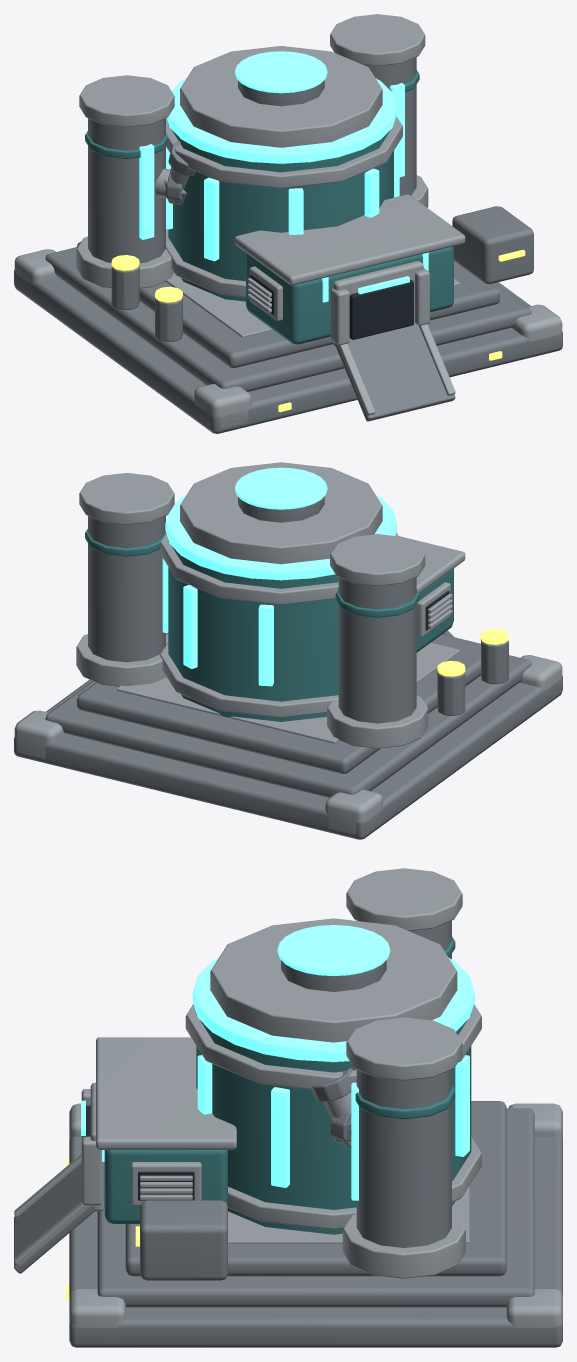
File: meridian-power-plant.glb
3 renders of one model, top to bottom at view 1: azimuth 30°, elevation 25°; view 2: azimuth 150°, elevation 25°; view 3: azimuth 270°, elevation 25°, orthographic. The views are drawn at different scales.
Visible parts, largest first — view 1: PowerPlantBodyMesh; view 2: PowerPlantBodyMesh; view 3: PowerPlantBodyMesh.
Part boxes in pixels (<box>): PowerPlantBodyMesh: <box>14,14,562,433</box>; PowerPlantBodyMesh: <box>14,462,562,839</box>; PowerPlantBodyMesh: <box>14,868,562,1347</box>.
Size of the model in its own units: 2.8 by 1.88 by 3.11.
